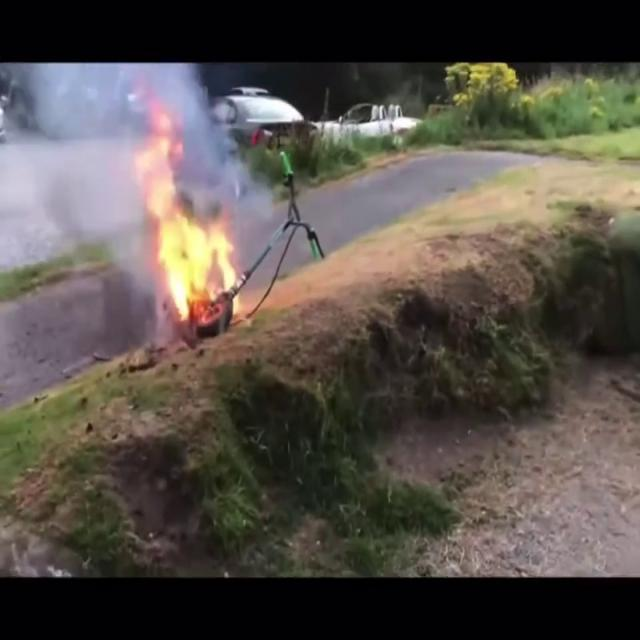Fire: (131, 129, 242, 320)
Smoke: (17, 63, 260, 201)
